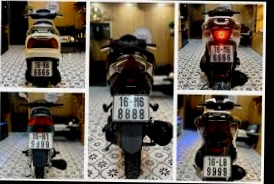Bien-so: (122, 92, 162, 120), (220, 150, 249, 172), (222, 38, 249, 57), (35, 135, 61, 154), (34, 63, 57, 80)
